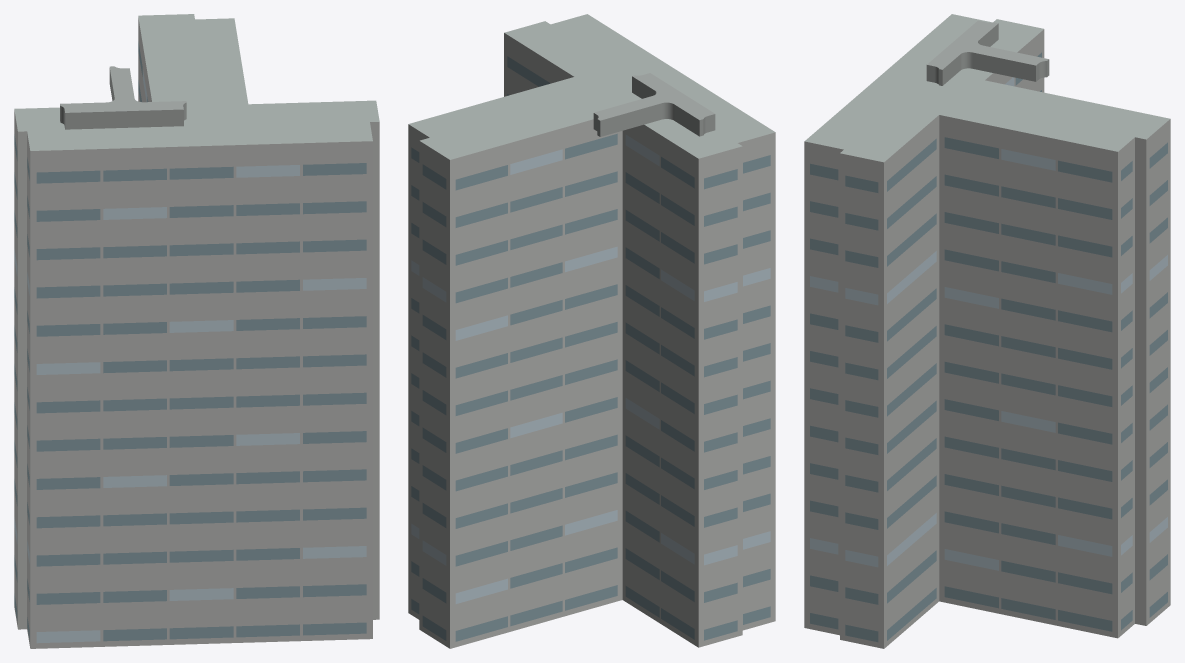
The model's file is fallback-prestige-123.glb.
The picture shows the model from 3 angles, left to right: view 1: azimuth 30°, elevation 25°; view 2: azimuth 150°, elevation 25°; view 3: azimuth 270°, elevation 25°; orthographic projection. The views are drawn at different scales.
Visible parts, largest first — view 1: fallback-prestige-123; view 2: fallback-prestige-123; view 3: fallback-prestige-123.
Boxes of the visible parts, <box> form: fallback-prestige-123: <box>14,14,379,648</box>; fallback-prestige-123: <box>408,14,775,648</box>; fallback-prestige-123: <box>804,14,1170,648</box>.
Size of the model in its own units: 46.84 by 74 by 48.84.
